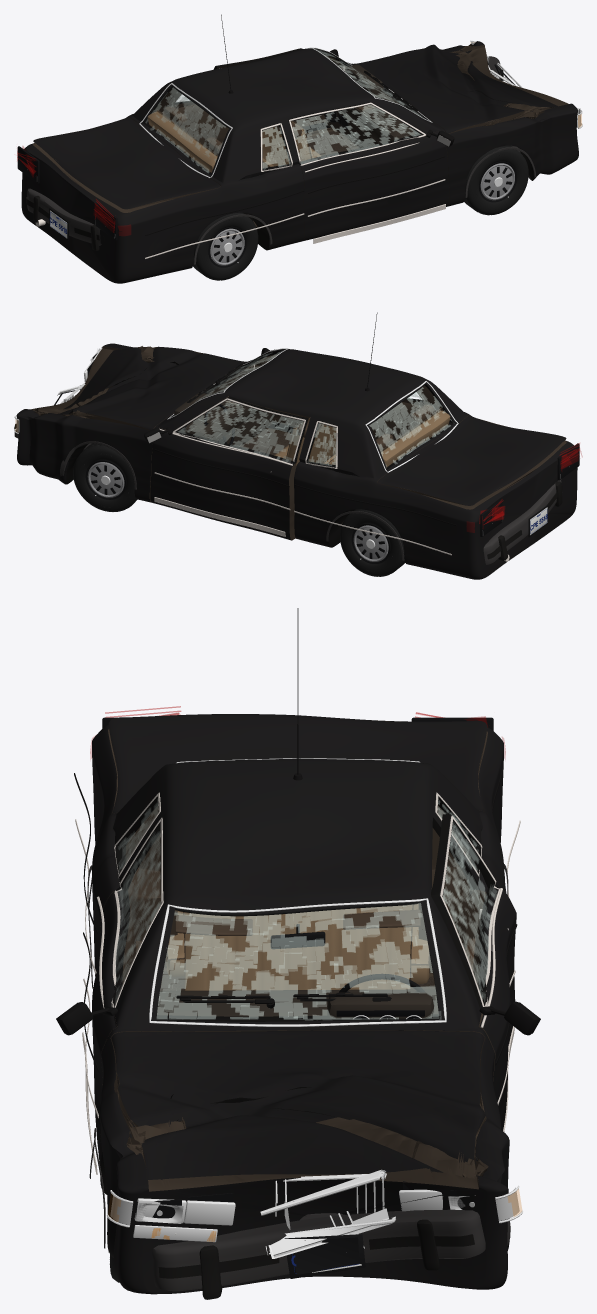
File: coupe84_front_d1.glb
The picture shows the model from 3 angles, top to bottom: view 1: azimuth 30°, elevation 25°; view 2: azimuth 150°, elevation 25°; view 3: azimuth 270°, elevation 25°; orthographic projection. The views are drawn at different scales.
Visible parts, largest first — view 1: Body, Door_FR, Trunk, Hood, Interior, Glass, Glass_FR, Wheel_FR_mesh, Wheel_RR_mesh, Trim_FR, Ends, Trim (+3 smaller); view 2: Body, Door_FL, Trunk, Hood, Interior, Glass, Wheel_FL_mesh, Wheel_RL_mesh, Glass_FL, Trim_FL, Ends, Trim (+3 smaller); view 3: Body, Hood, Interior, Glass, Trunk, Ends, Bumper_F, Door_FL, Door_FR, Trim, Glass_FL, Glass_FR (+2 smaller).
Part boxes in pixels (left/top/right/bottom): Body: left=21, top=41, right=578, bottom=283; Door_FR: left=288, top=102, right=449, bottom=240; Trunk: left=33, top=117, right=220, bottom=209; Hood: left=354, top=44, right=557, bottom=133; Interior: left=147, top=64, right=418, bottom=172; Glass: left=139, top=47, right=432, bottom=178; Glass_FR: left=289, top=102, right=422, bottom=165; Wheel_FR_mesh: left=464, top=145, right=528, bottom=215; Wheel_RR_mesh: left=193, top=212, right=258, bottom=280; Trim_FR: left=289, top=102, right=454, bottom=243; Ends: left=17, top=40, right=582, bottom=240; Trim: left=145, top=14, right=536, bottom=264; Body: left=16, top=343, right=577, bottom=579; Door_FL: left=150, top=396, right=308, bottom=540; Trunk: left=377, top=415, right=566, bottom=505; Hood: left=49, top=346, right=244, bottom=430; Interior: left=174, top=369, right=450, bottom=466; Glass: left=167, top=348, right=458, bottom=472; Wheel_FL_mesh: left=73, top=443, right=137, bottom=511; Wheel_RL_mesh: left=340, top=509, right=405, bottom=576; Glass_FL: left=176, top=398, right=306, bottom=466; Trim_FL: left=144, top=398, right=305, bottom=536; Ends: left=14, top=343, right=579, bottom=537; Trim: left=60, top=312, right=456, bottom=560; Body: left=92, top=725, right=509, bottom=1294; Hood: left=111, top=1030, right=486, bottom=1179; Interior: left=157, top=904, right=438, bottom=1019; Glass: left=117, top=758, right=478, bottom=1026; Trunk: left=108, top=714, right=487, bottom=813; Ends: left=102, top=717, right=523, bottom=1278; Bumper_F: left=152, top=1209, right=485, bottom=1299; Door_FL: left=431, top=814, right=516, bottom=1130; Door_FR: left=92, top=816, right=164, bottom=1162; Trim: left=74, top=608, right=520, bottom=1248; Glass_FL: left=438, top=822, right=500, bottom=1001; Glass_FR: left=113, top=828, right=163, bottom=1002.
Size of the model in its own units: 4.91 by 2.15 by 2.13.
Materials: 34 (5 with a texture image).
